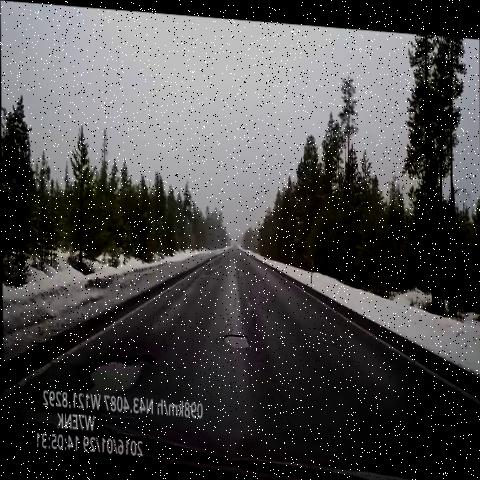pothole: (70, 321, 171, 418), (219, 313, 255, 358)
